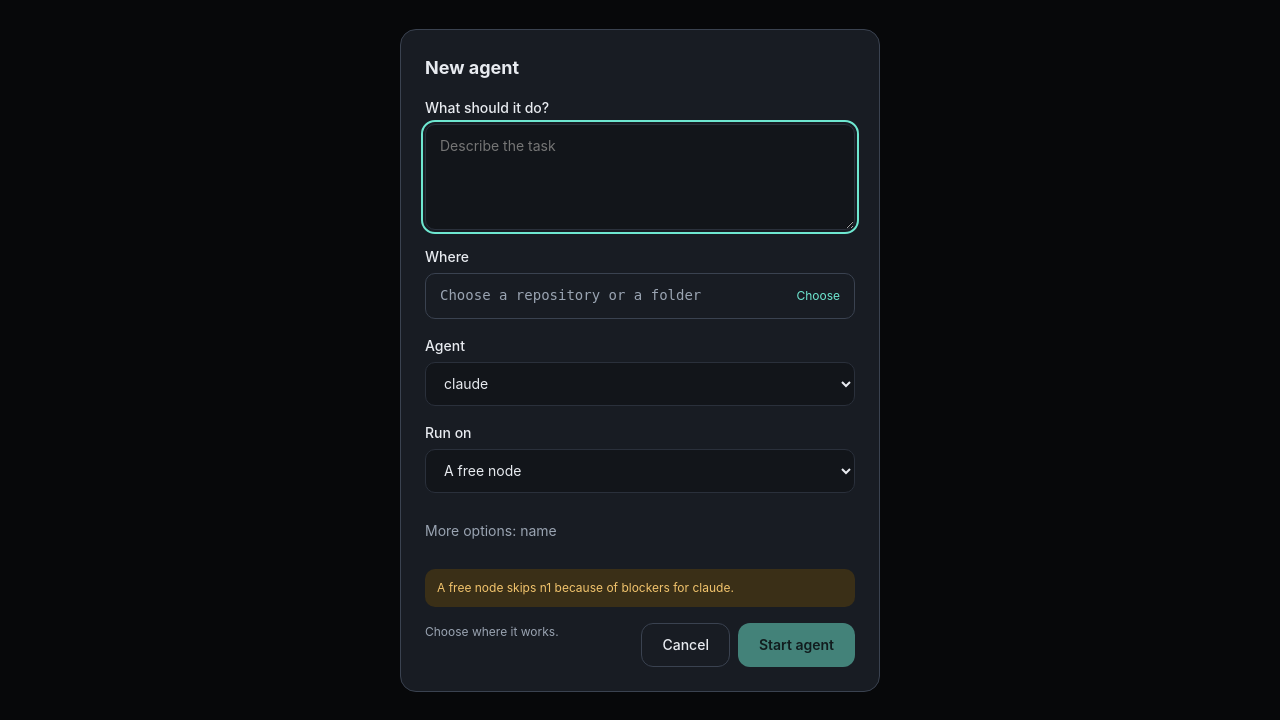
it: SpawnDialog › a blocked node+profile shows the warning and disables Start; a free node skips it
Select "alpha - login required" in the dropdown labelled "Run on": point(640, 470) [425, 448, 855, 492]
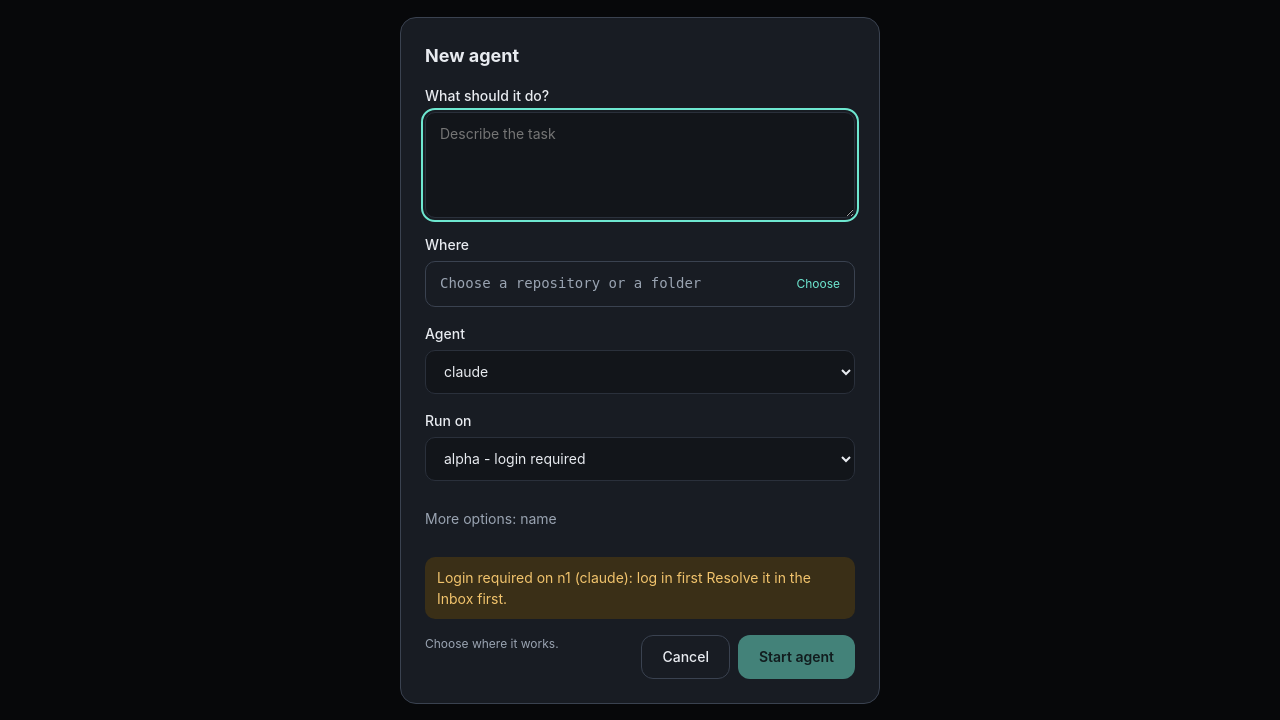
Expected: the button "Start agent" is disabled, [738, 634, 855, 678]
Expected: the message "Login required on n1 (claude): log in first Resolve it in the Inbox first." is shown, [425, 556, 855, 618]
Select "A free node" in the dropdown labelled "Run on": point(640, 458) [425, 436, 855, 480]
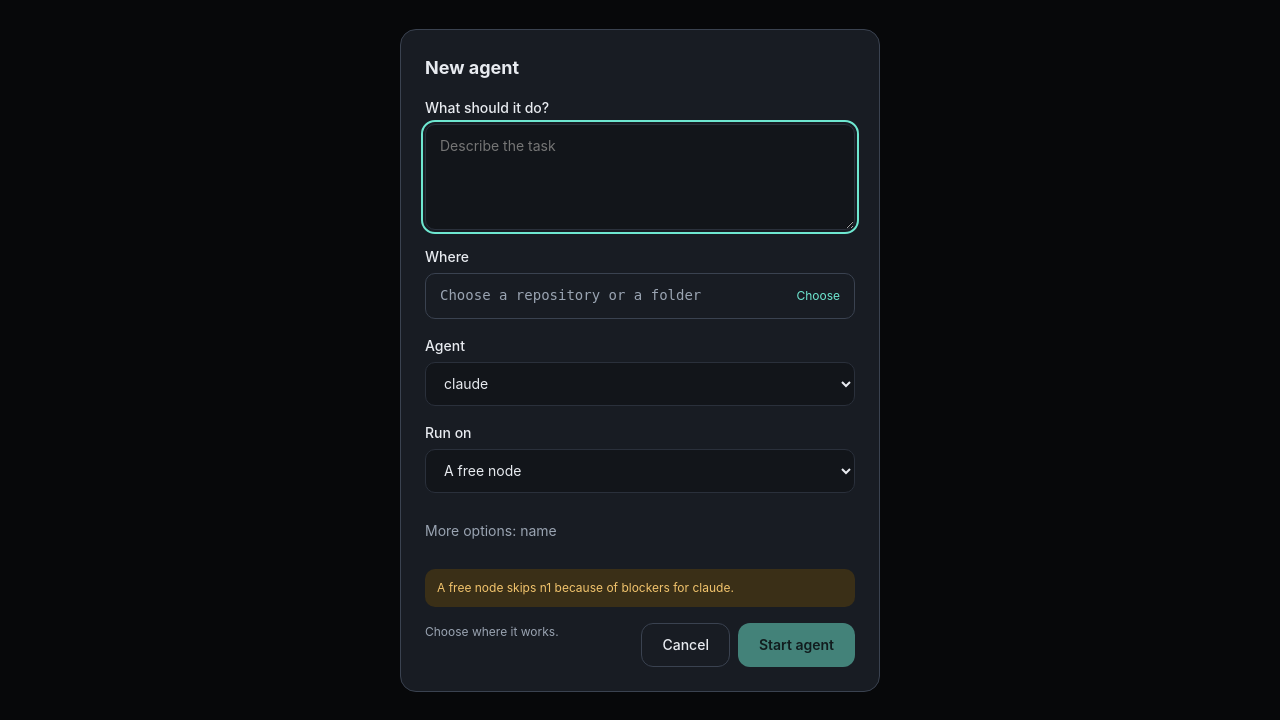
Expected: the text "A free node skips n1 because of blockers for claude." is shown, [425, 568, 855, 606]
